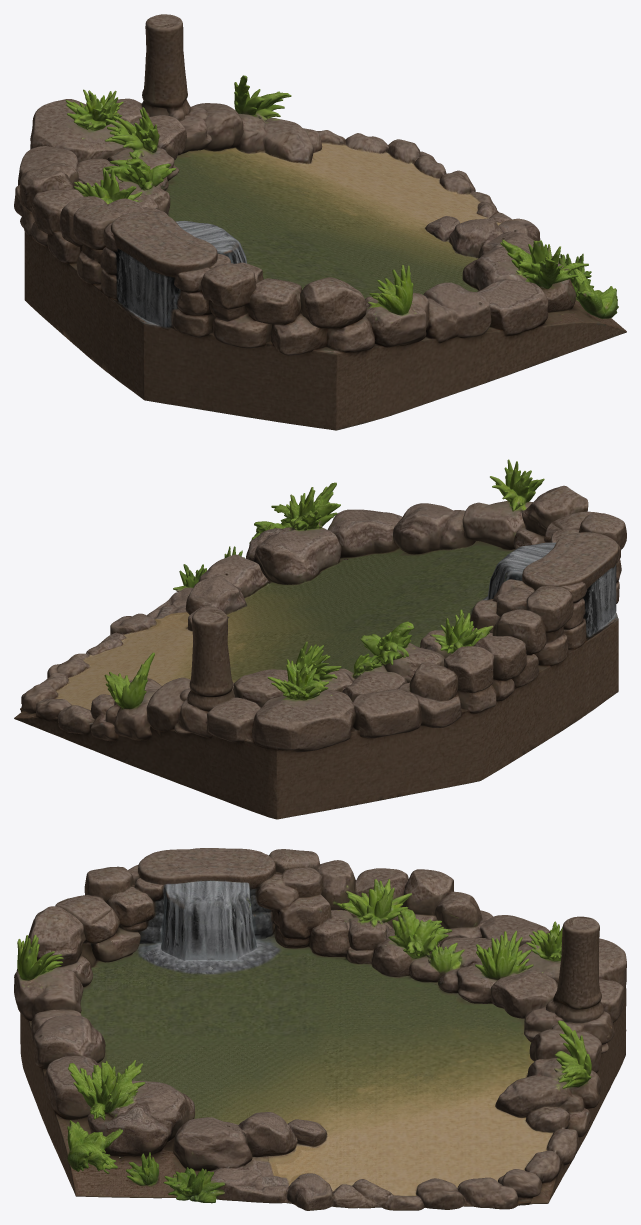
The model's file is pond1.glb.
3 renders of one model, top to bottom at view 1: azimuth 30°, elevation 25°; view 2: azimuth 150°, elevation 25°; view 3: azimuth 270°, elevation 25°, orthographic. The views are drawn at different scales.
Visible parts, largest first — view 1: tripo_node_0f855f8c-6293-4292-874b-6ad9739012f0; view 2: tripo_node_0f855f8c-6293-4292-874b-6ad9739012f0; view 3: tripo_node_0f855f8c-6293-4292-874b-6ad9739012f0.
Boxes of the visible parts, bbox=[...] form: tripo_node_0f855f8c-6293-4292-874b-6ad9739012f0: bbox=[14, 14, 626, 430]; tripo_node_0f855f8c-6293-4292-874b-6ad9739012f0: bbox=[14, 459, 626, 819]; tripo_node_0f855f8c-6293-4292-874b-6ad9739012f0: bbox=[14, 848, 626, 1210].
Bounding box in the file's own units: 0.8682 × 0.3123 × 1.
1 material, 1 textured.
